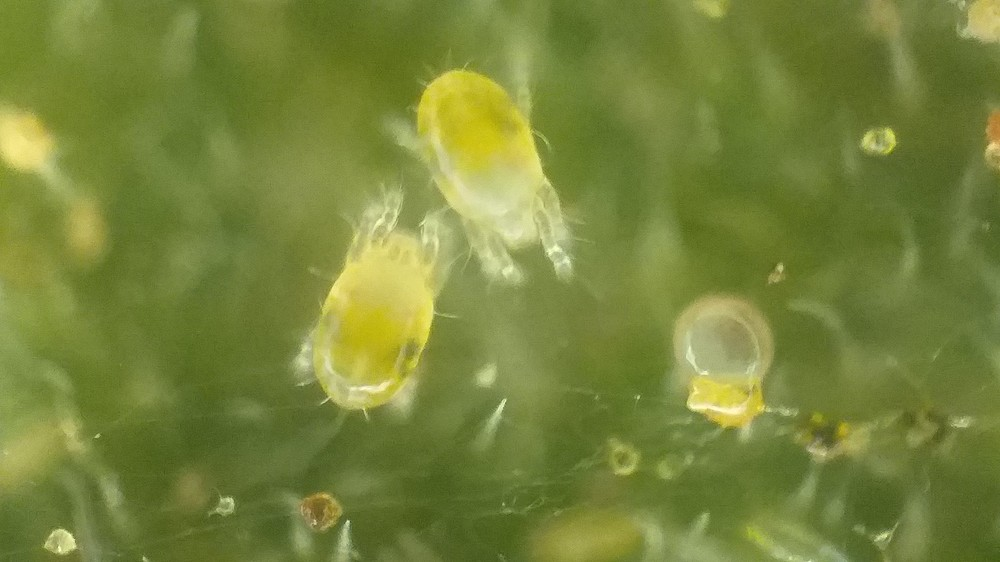Aracnido Rojo: (399, 59, 599, 298), (282, 192, 471, 418)
